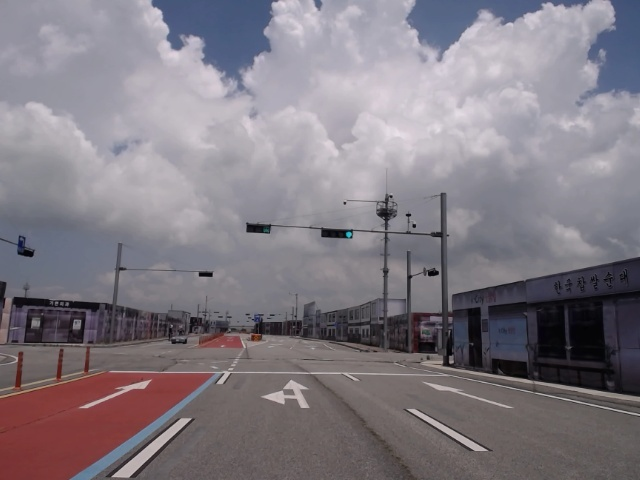straight_green_4: (320, 227, 353, 238)
